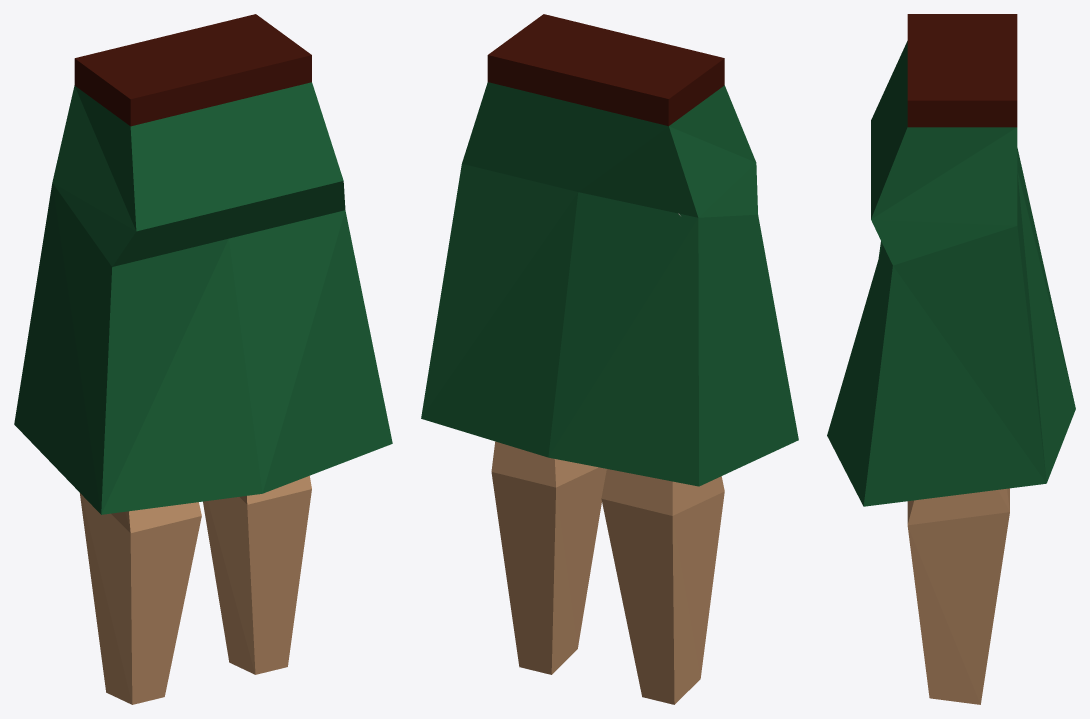
Rendered from player_female_legs_78_0.obj.
3 renders of one model, left to right at view 1: azimuth 30°, elevation 25°; view 2: azimuth 150°, elevation 25°; view 3: azimuth 270°, elevation 25°, orthographic. The views are drawn at different scales.
Size of the model in its own units: 0.3516 by 0.7188 by 0.2656.
